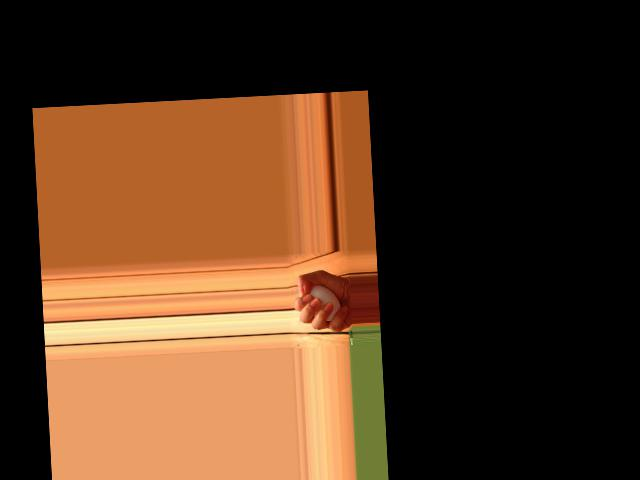egg: (309, 284, 341, 322)
